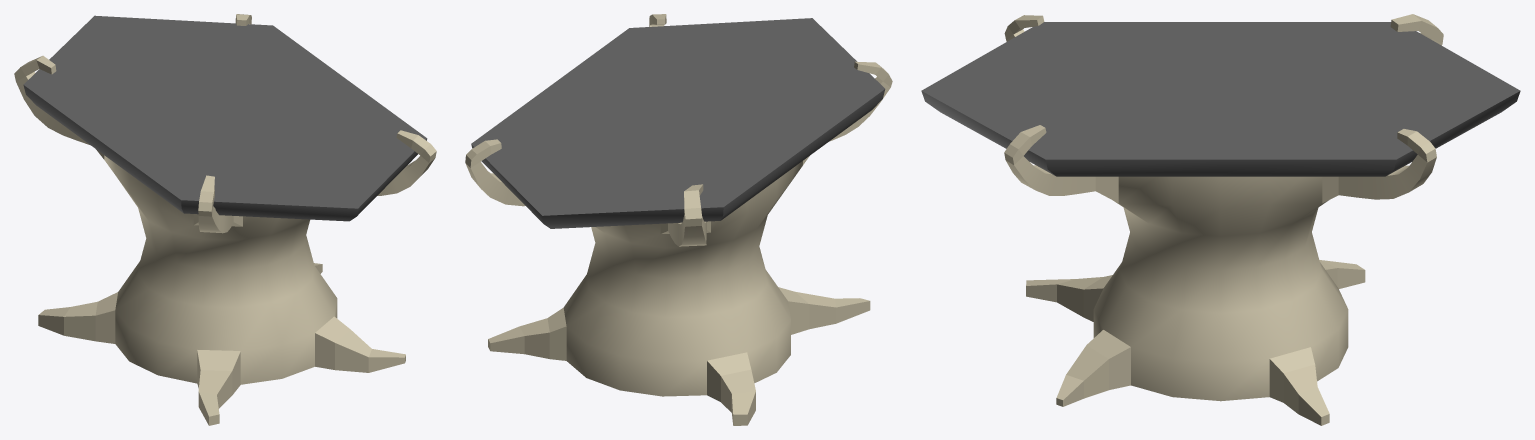
Rendered from Mesa_Metal_FBX.fbx.
3 renders of one model, left to right at view 1: azimuth 30°, elevation 25°; view 2: azimuth 150°, elevation 25°; view 3: azimuth 270°, elevation 25°, orthographic. The views are drawn at different scales.
Visible parts, largest first — view 1: Meda_De_Metal; view 2: Meda_De_Metal; view 3: Meda_De_Metal.
Part boxes in pixels (<box>): Meda_De_Metal: <box>14,14,436,425</box>; Meda_De_Metal: <box>465,14,892,425</box>; Meda_De_Metal: <box>921,14,1520,425</box>.
Size of the model in its own units: 1.13 by 0.9959 by 1.93.
